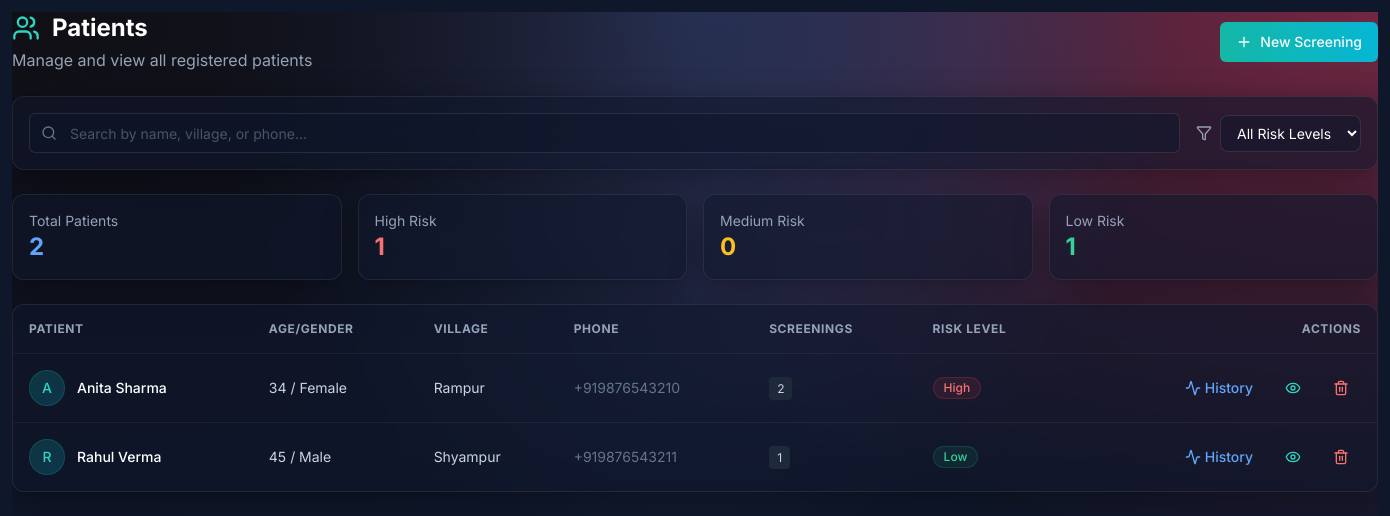
Test: PatientsPage › filters patients based on search input
The image size is (1390, 516).
expect the text "Anita Sharma" is shown: met, box [77, 379, 167, 396]
Type "Anita" into the field with placeholder "Search by name, village, or phone..." at (604, 133), box [29, 113, 1180, 153]
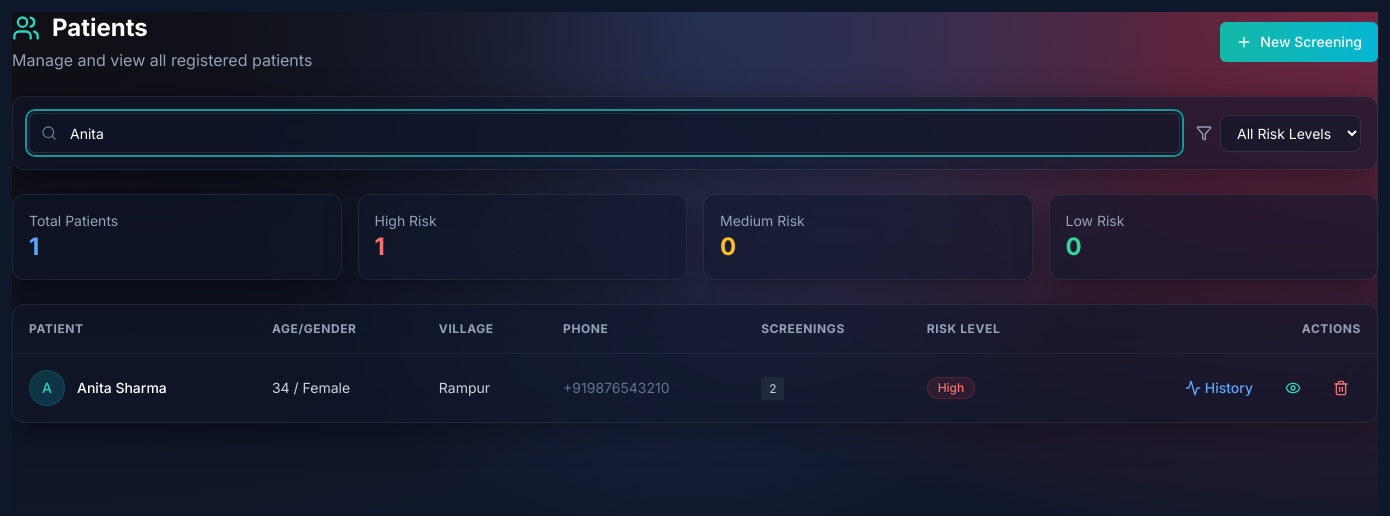
expect the text "Anita Sharma" is shown: met, box [77, 379, 167, 396]
expect the text "Rahul Verma" is gone: met
